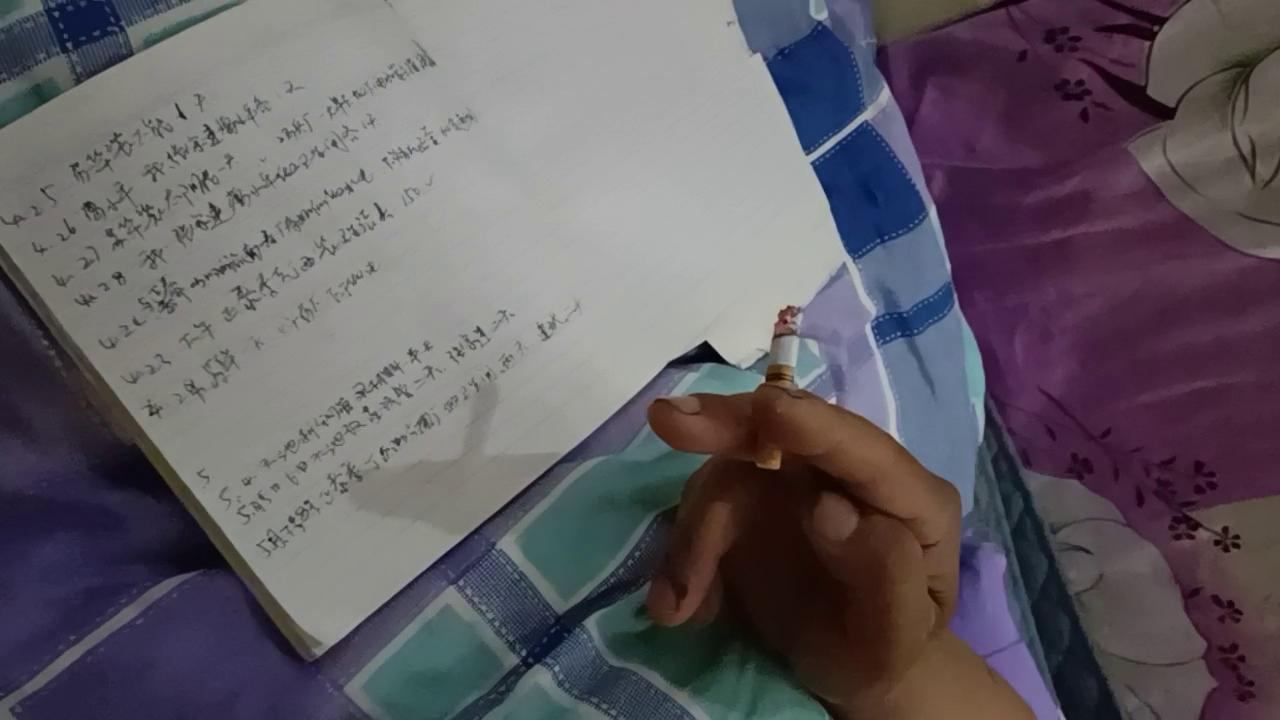smoke: (752, 305, 806, 472)
